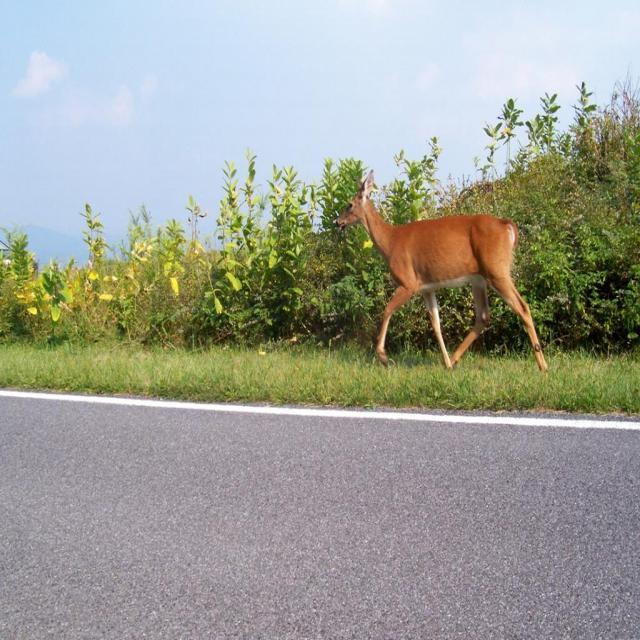Deer: (336, 177, 546, 368)
